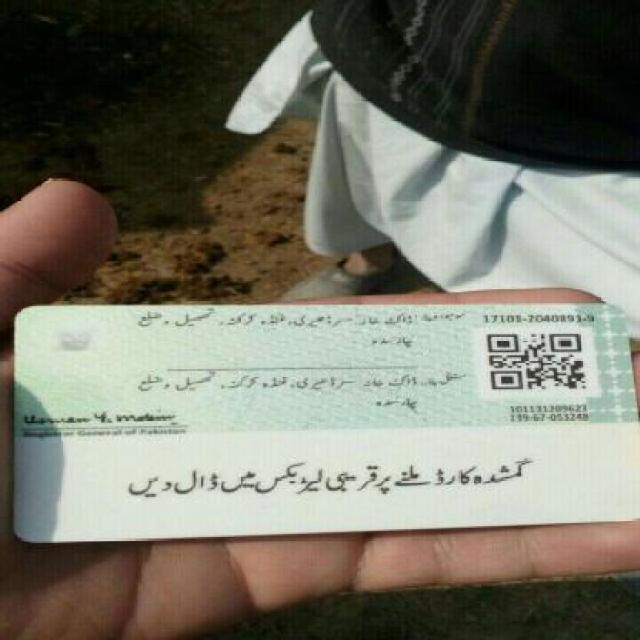Back: (9, 298, 631, 537)
